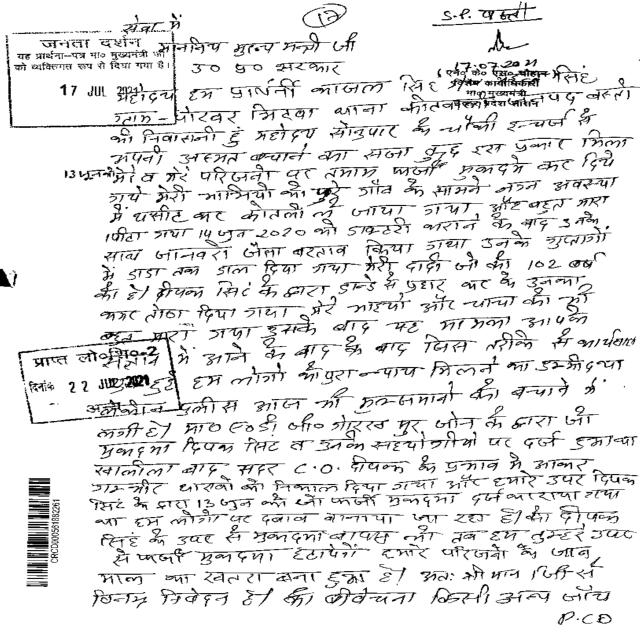antritgovtstamp: (11, 337, 192, 428)
barcode: (22, 472, 65, 591)
jantadarsan: (5, 26, 181, 127)
signnamestamp: (425, 24, 561, 107)
